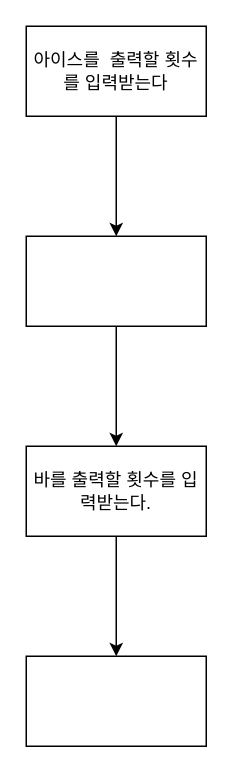
Image size: 233x773. Some labels were removed from this diagram. Here are the shapes that lost their labels. From the top down, the box of each, then its label:
(25, 235, 206, 326): 아이스를 입력받은 횟수만큼 출력한다.
(25, 655, 206, 746): 바를 입력받은 횟수만큼 출력한다.
